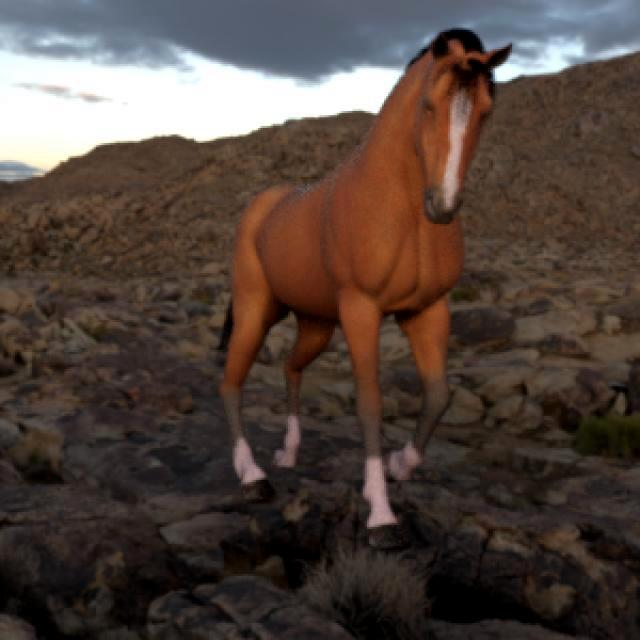horse: (220, 30, 511, 548)
